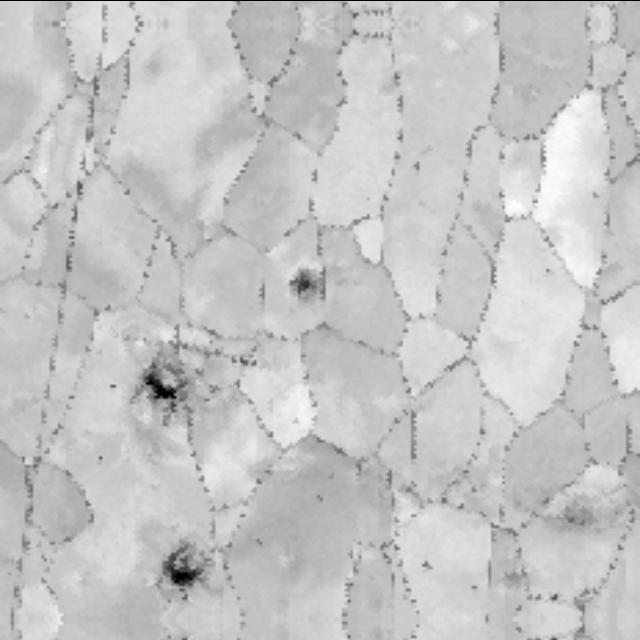good_void: (120, 333, 222, 436), (147, 529, 235, 613), (533, 491, 625, 548), (275, 256, 323, 310), (410, 544, 450, 590), (244, 528, 278, 562), (305, 484, 336, 515), (405, 148, 430, 180), (89, 441, 112, 469), (105, 376, 121, 394)
